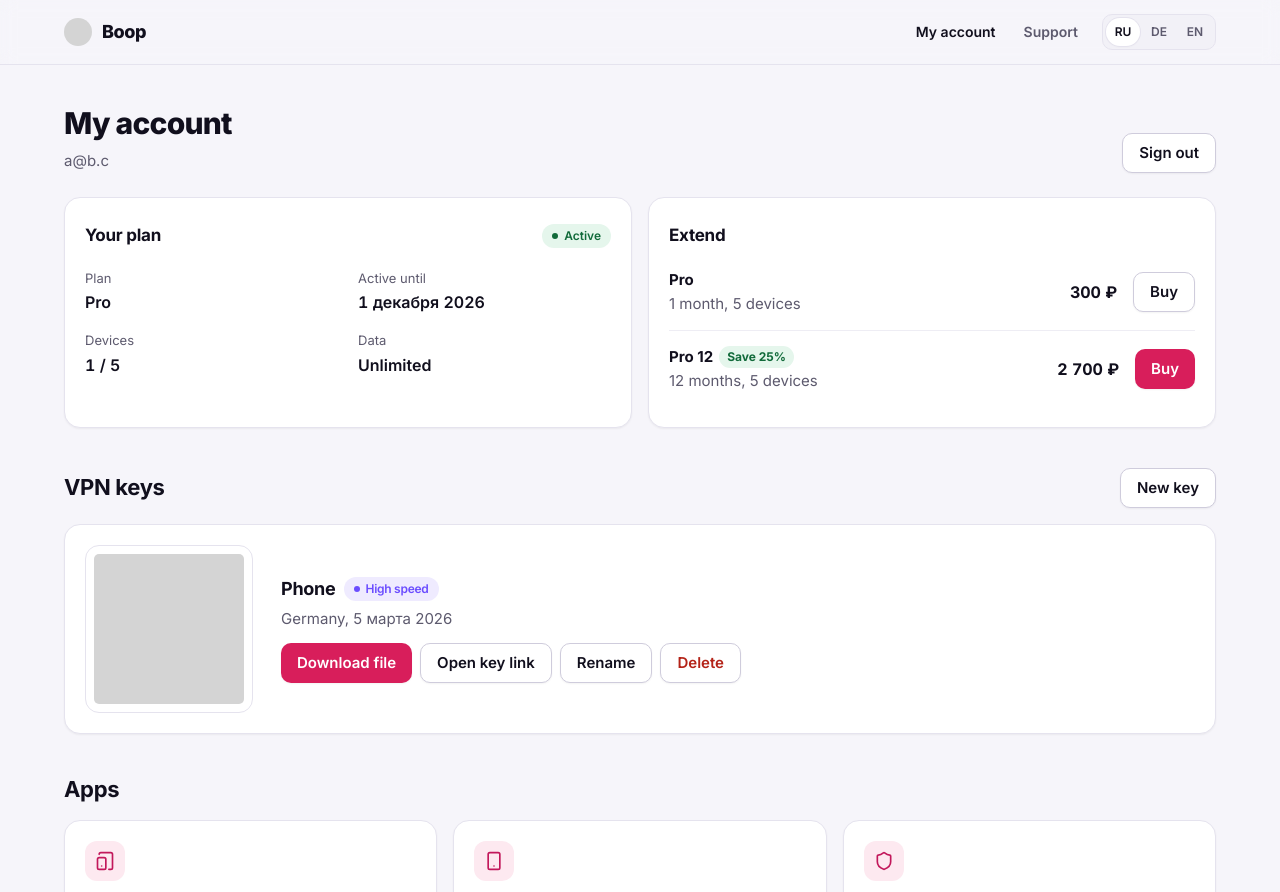
Test case: keys and devices › renames a device
Click the button "Rename". click: (606, 662)
box: [560,642,652,682]
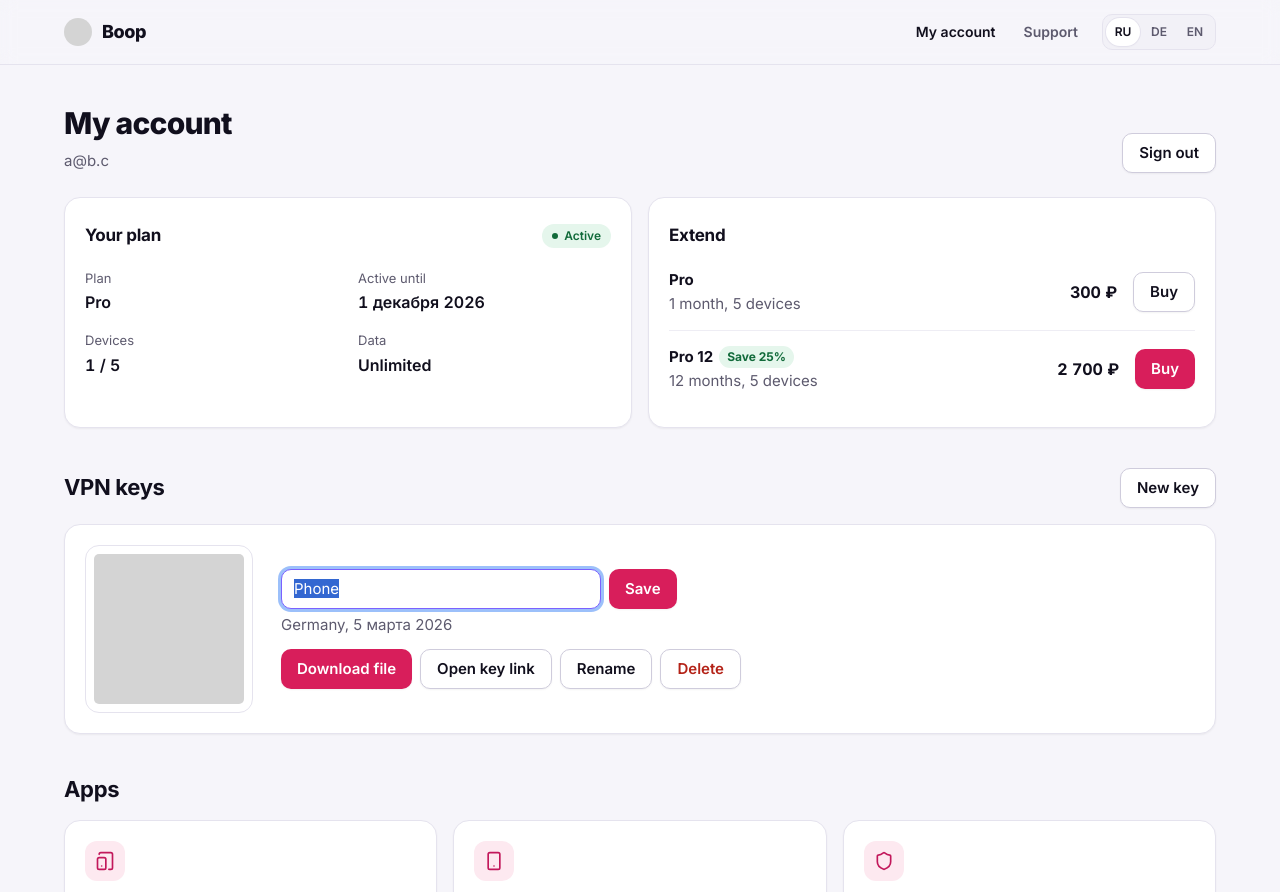
Replace the text in the field named "Name" with "  Work phone ". click: (441, 588)
box: [281,568,601,608]
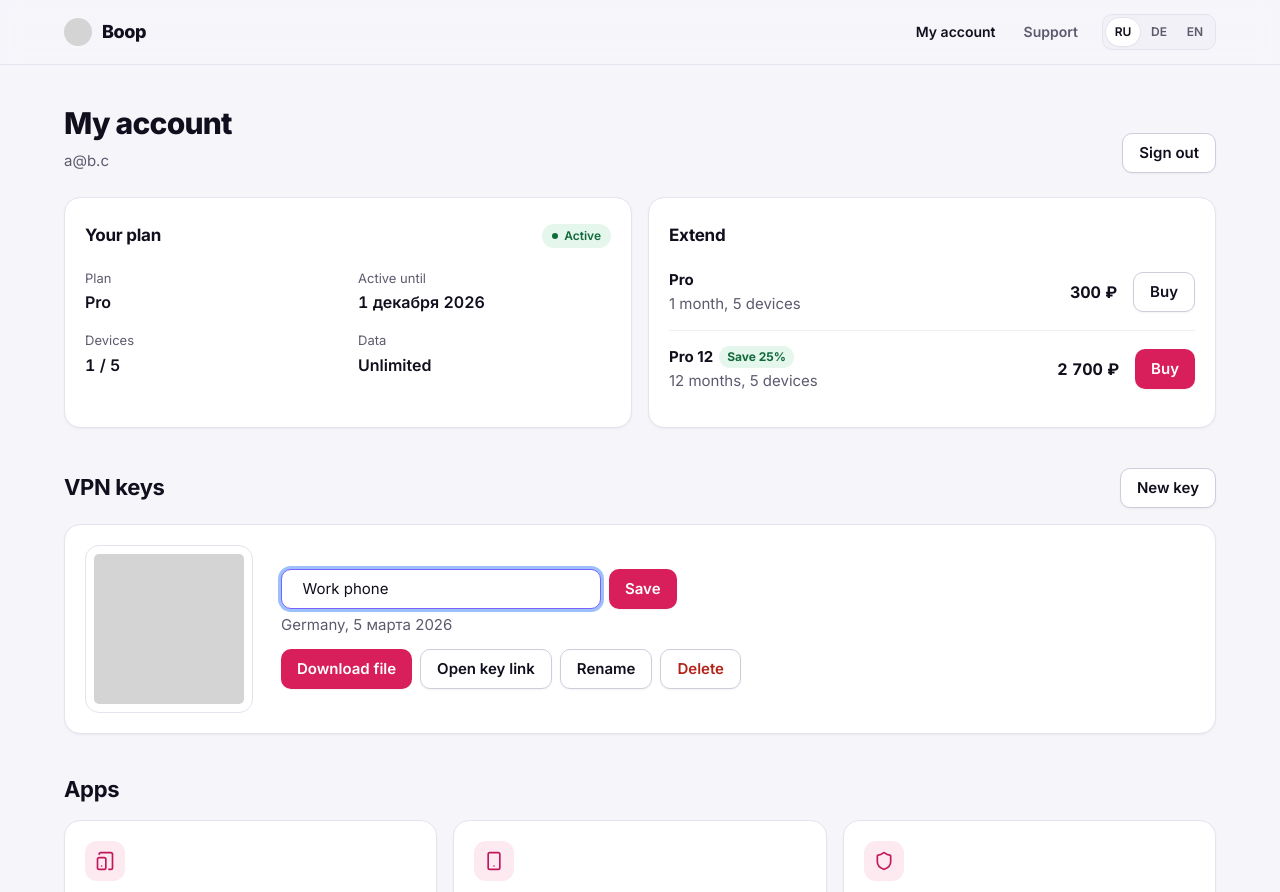
Click the button "Save". click: (643, 588)
box: [609,568,676,608]
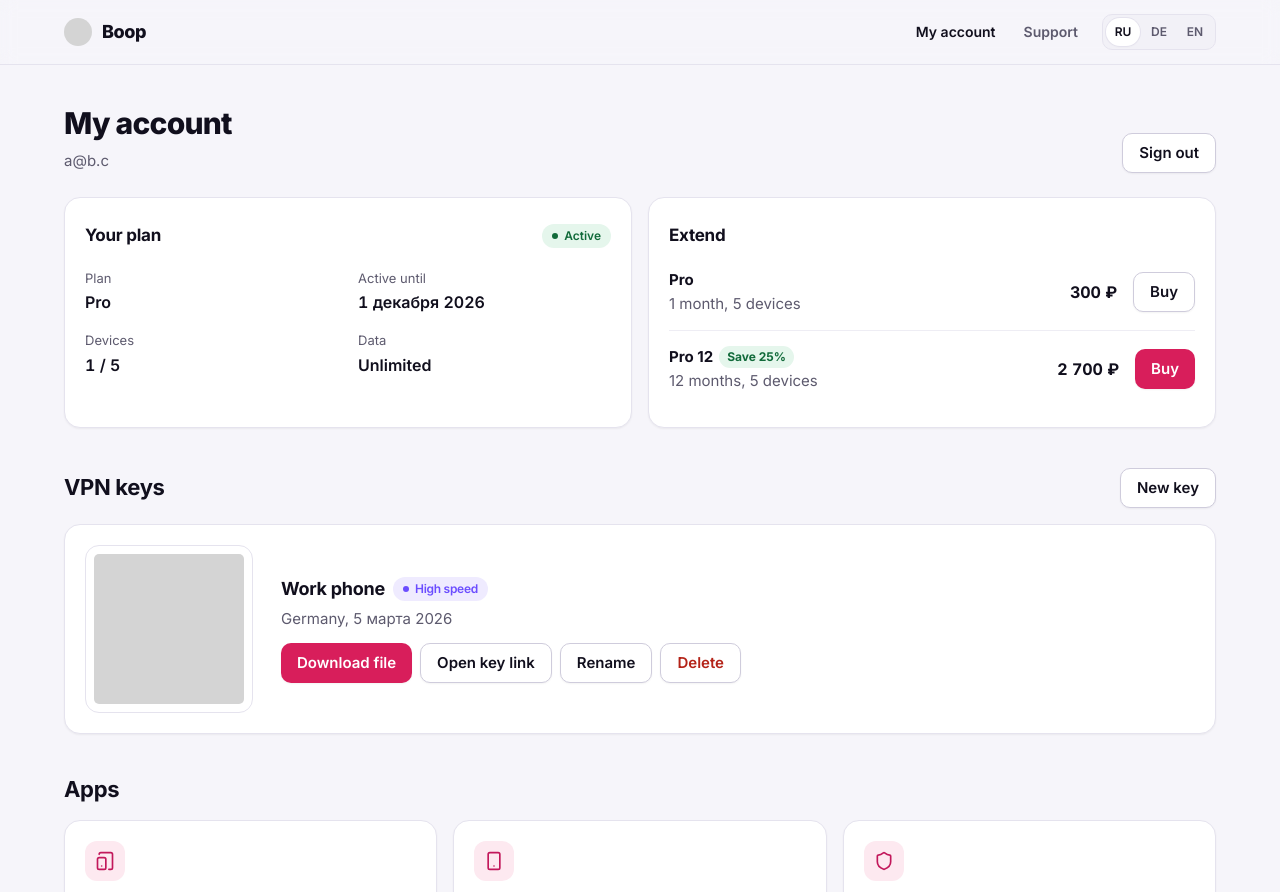
Result: the heading "Work phone High speed" is shown at [281,576,488,600]
